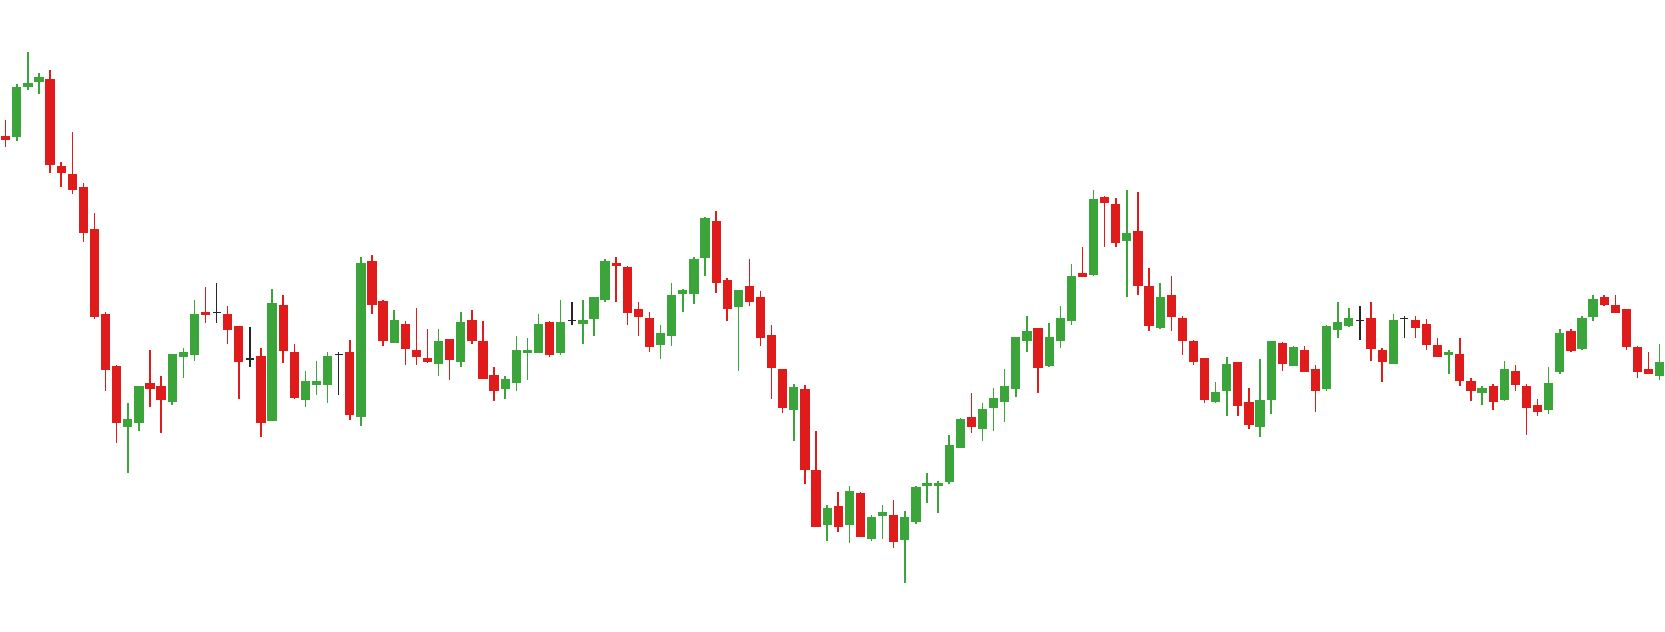sell: (267, 246, 380, 374), (599, 208, 723, 323)
